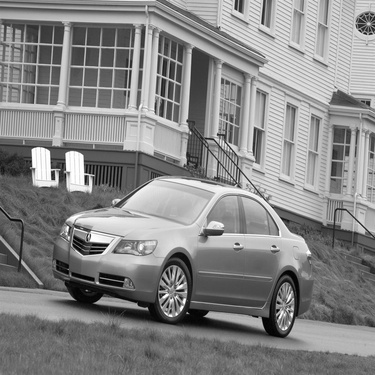car: (48, 167, 319, 338)
